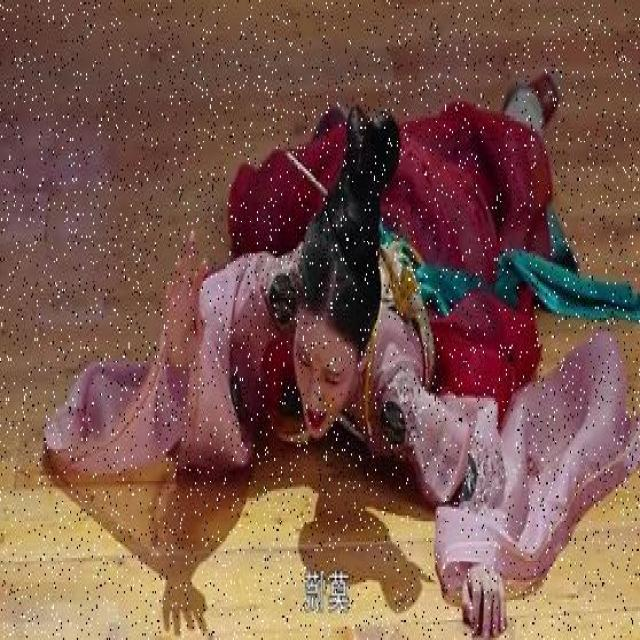fall: (90, 76, 578, 574)
